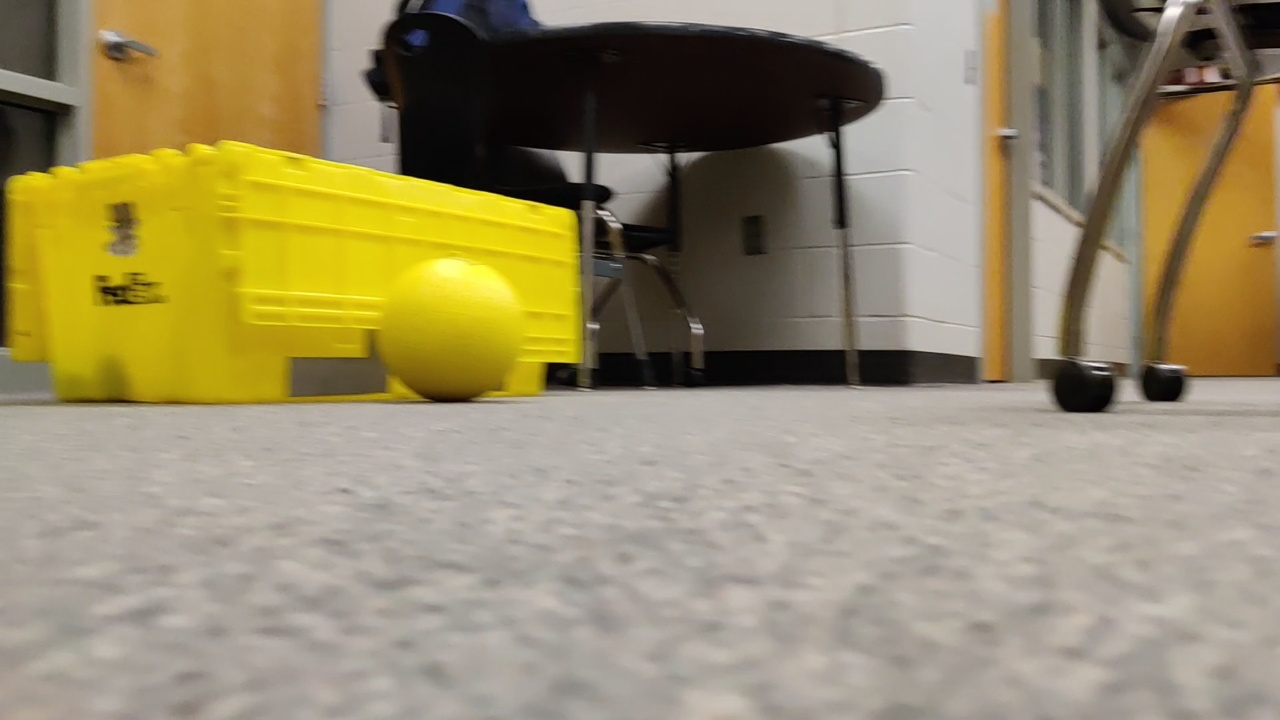Ball: (373, 256, 548, 411)
